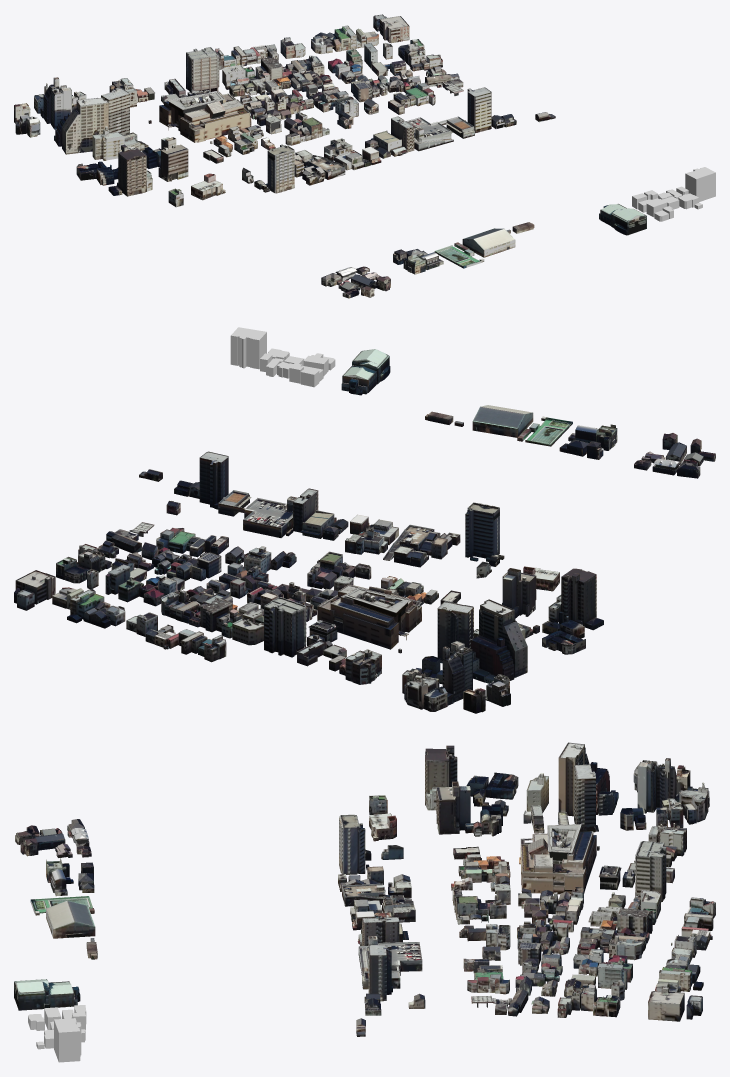
Rendered from station-6-2-packed.glb.
3 views of the same model, one above another, from view 1: azimuth 30°, elevation 25°; view 2: azimuth 150°, elevation 25°; view 3: azimuth 270°, elevation 25° (orthographic). The views are drawn at different scales.
Size of the model in its own units: 440 by 44.27 by 465.
Materials: 16 (15 with a texture image).
